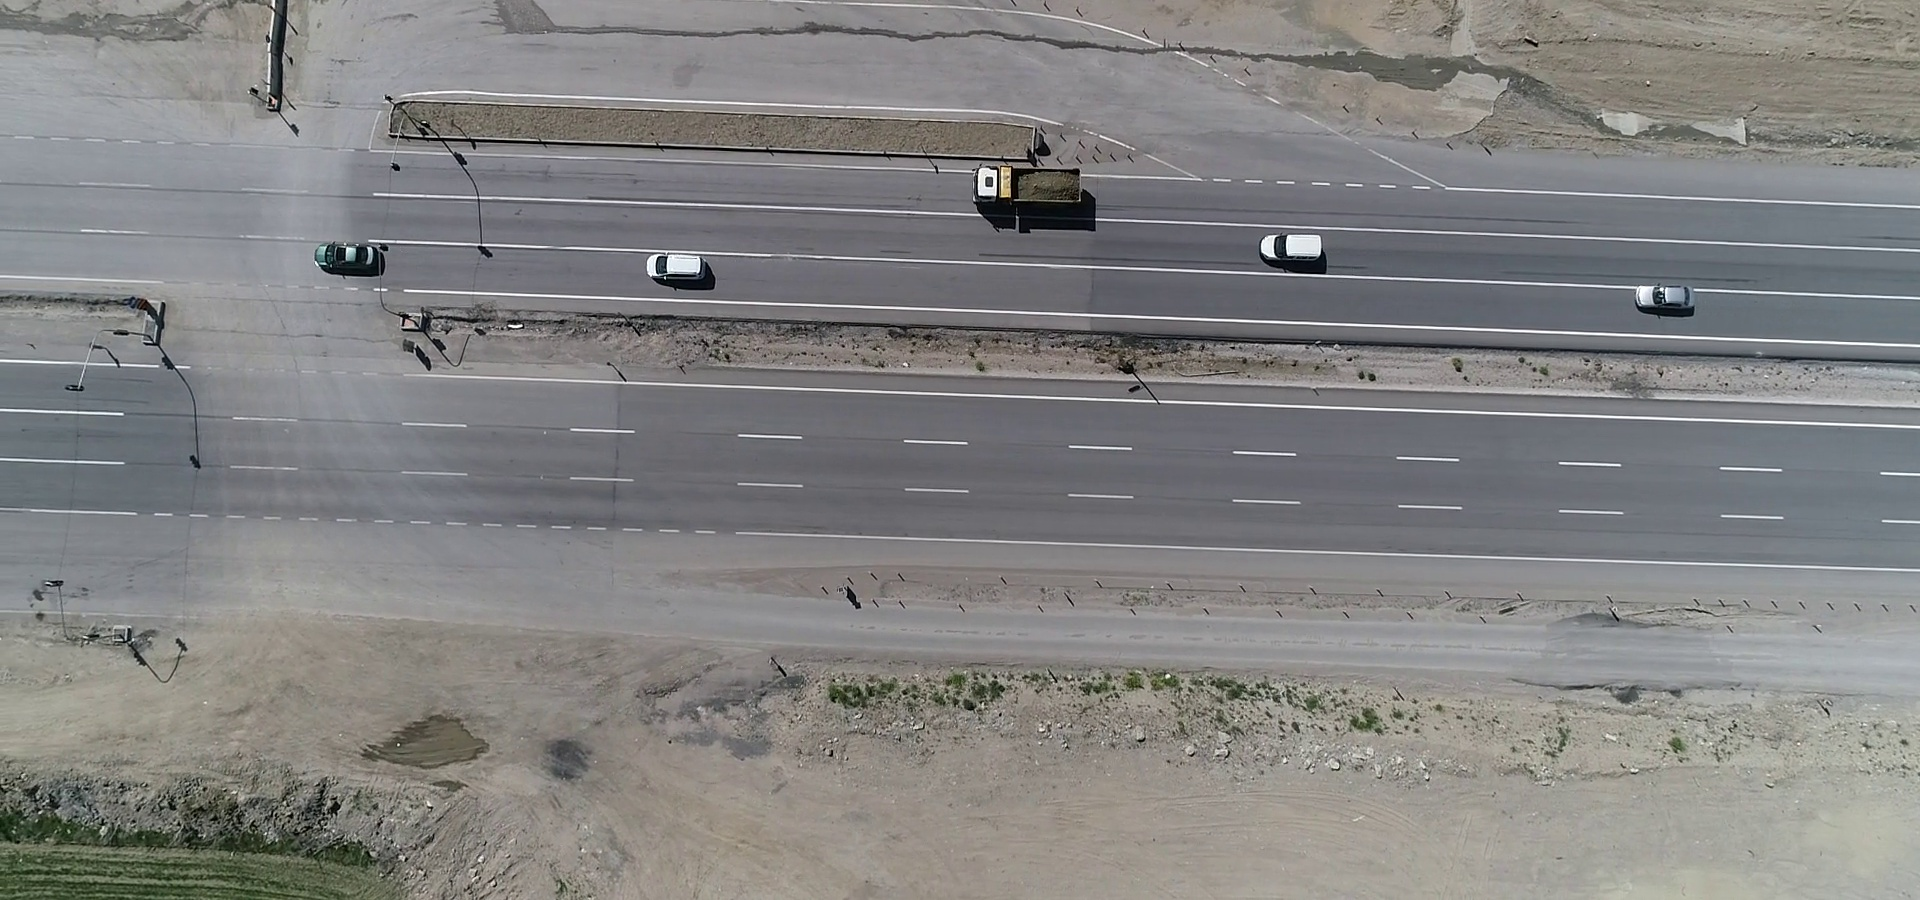arac: (969, 154, 1096, 216), (639, 242, 719, 294), (1253, 227, 1330, 269), (307, 242, 389, 279), (1630, 278, 1703, 315)
